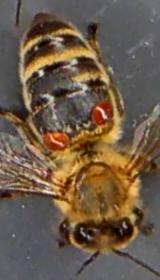varroa_mite: (38, 125, 76, 154), (90, 91, 112, 128)
